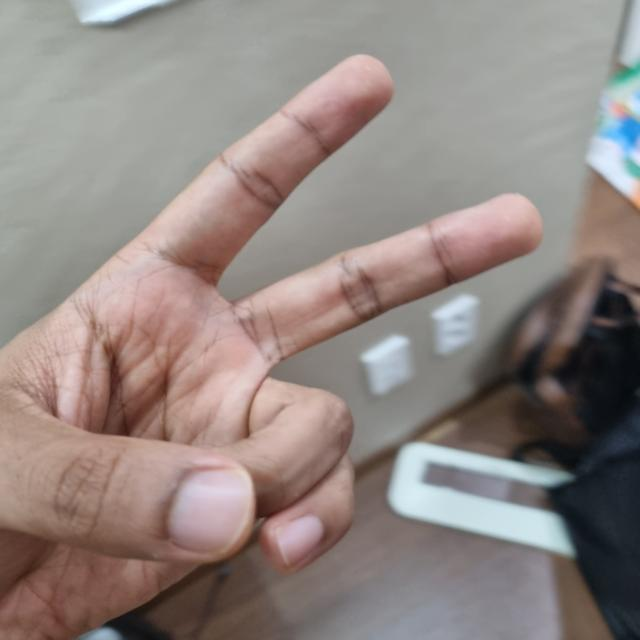Scissors: (0, 65, 538, 639)
